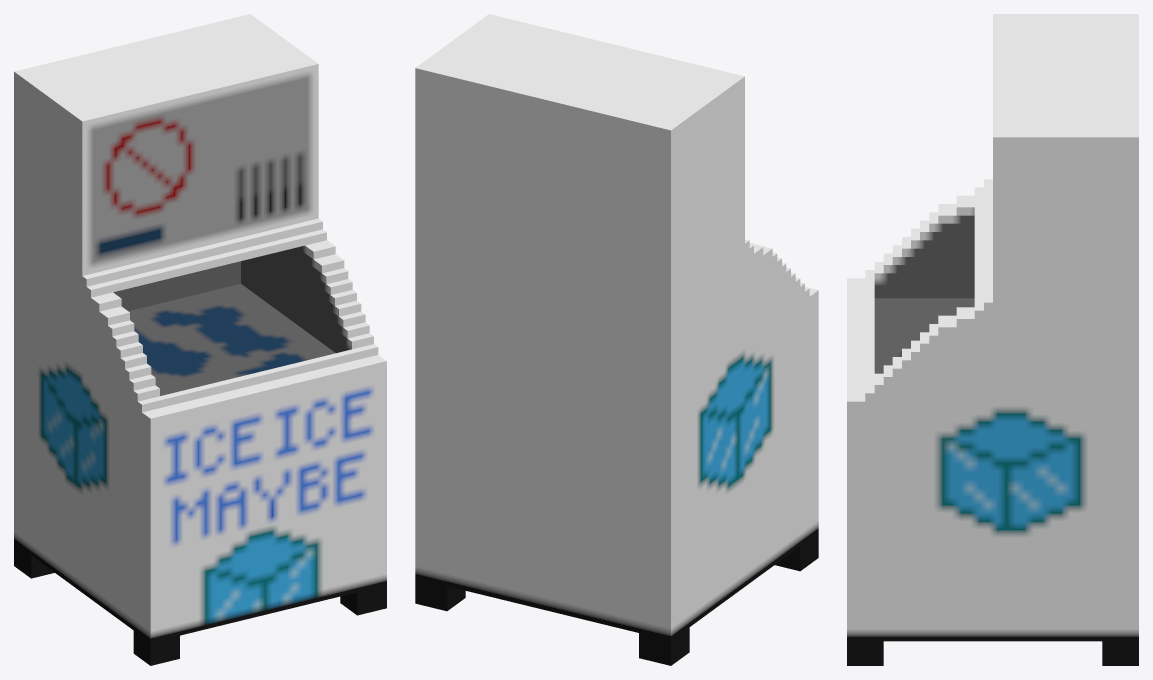
File: IceMachine01.fbx
The picture shows the model from 3 angles, left to right: view 1: azimuth 30°, elevation 25°; view 2: azimuth 150°, elevation 25°; view 3: azimuth 270°, elevation 25°; orthographic projection. The views are drawn at different scales.
Parts seen in each view (by area): view 1: Matrix; view 2: Matrix; view 3: Matrix.
Boxes of the visible parts, x1,y1,x2,y2 form: Matrix: (14,14,386,665); Matrix: (415,14,818,665); Matrix: (847,14,1138,665).
Bounding box in the file's own units: 32 × 64 × 32.
